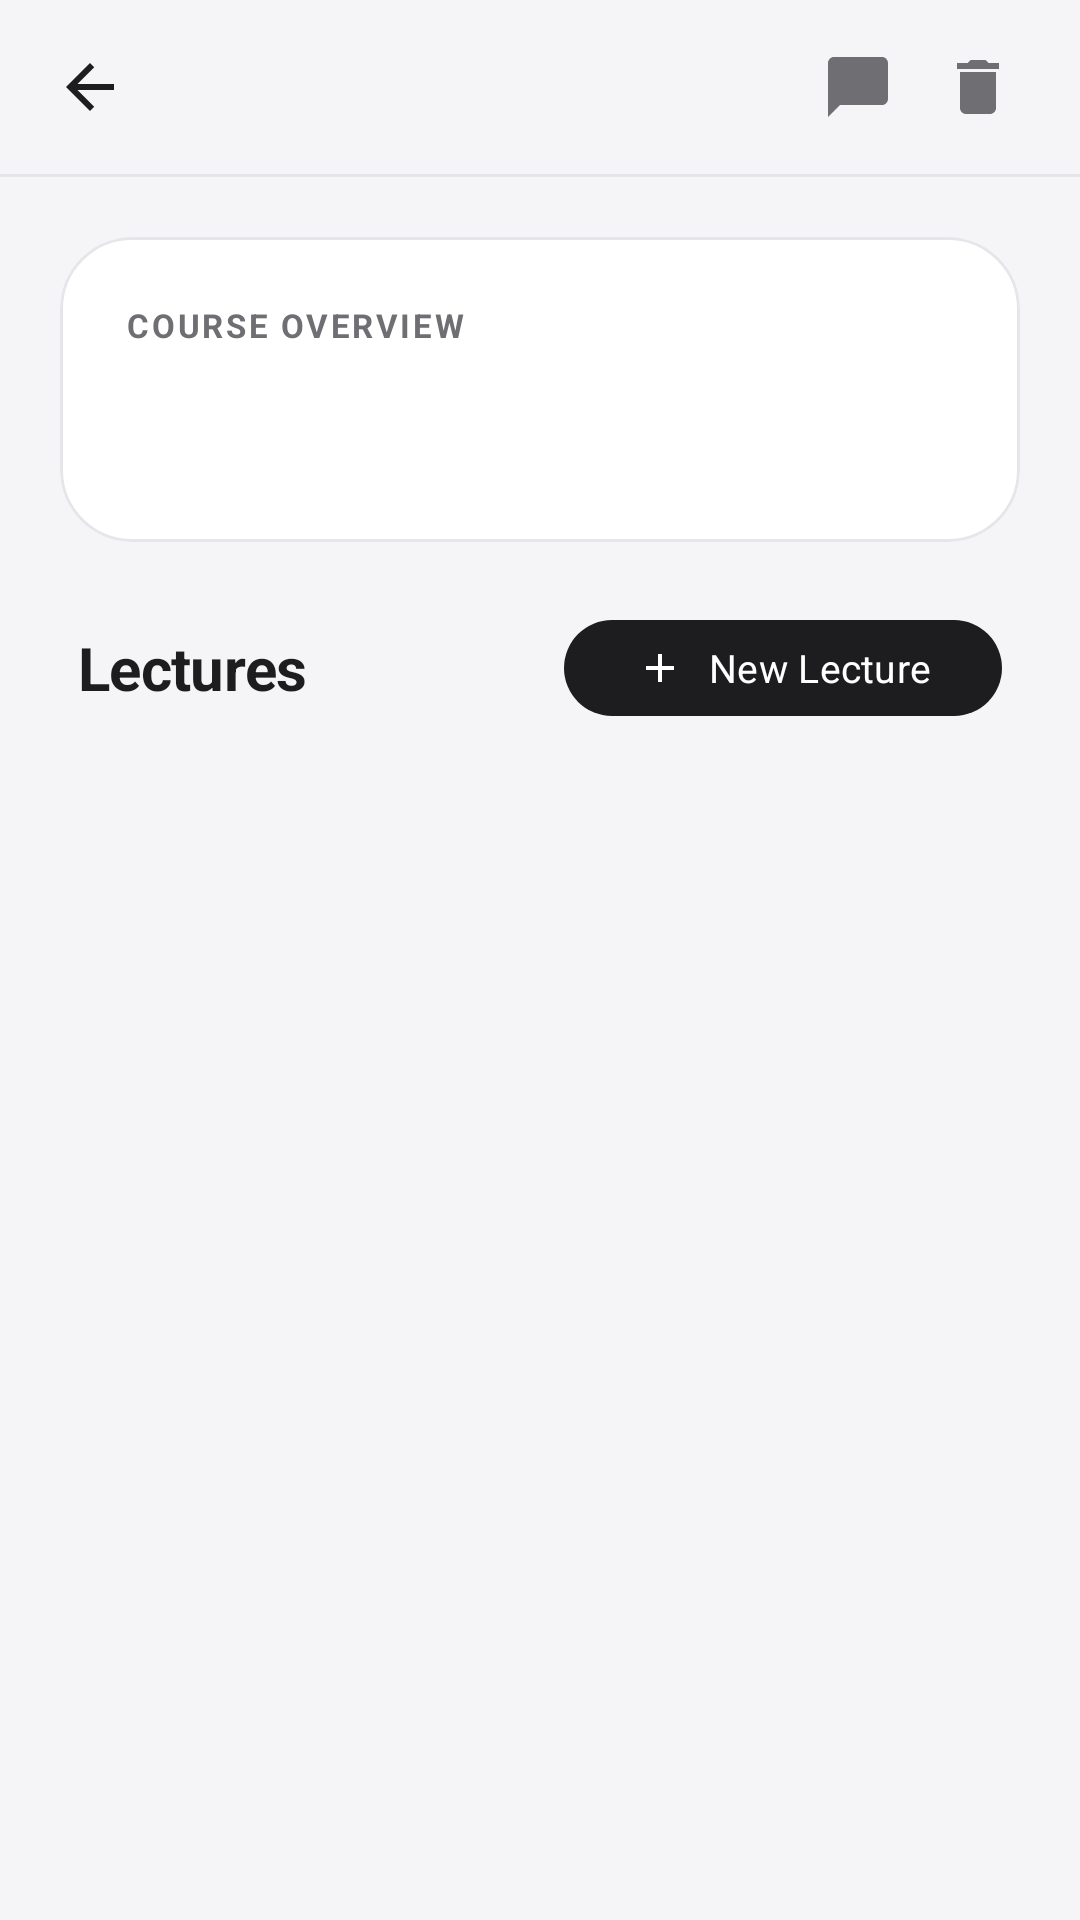

Point at icon controls on the screen. Image size 1080w x 1920h, points as (x=x, y=y).
Ask this course: (x=858, y=87)
Back: (x=90, y=87)
Delete Course: (x=978, y=87)
